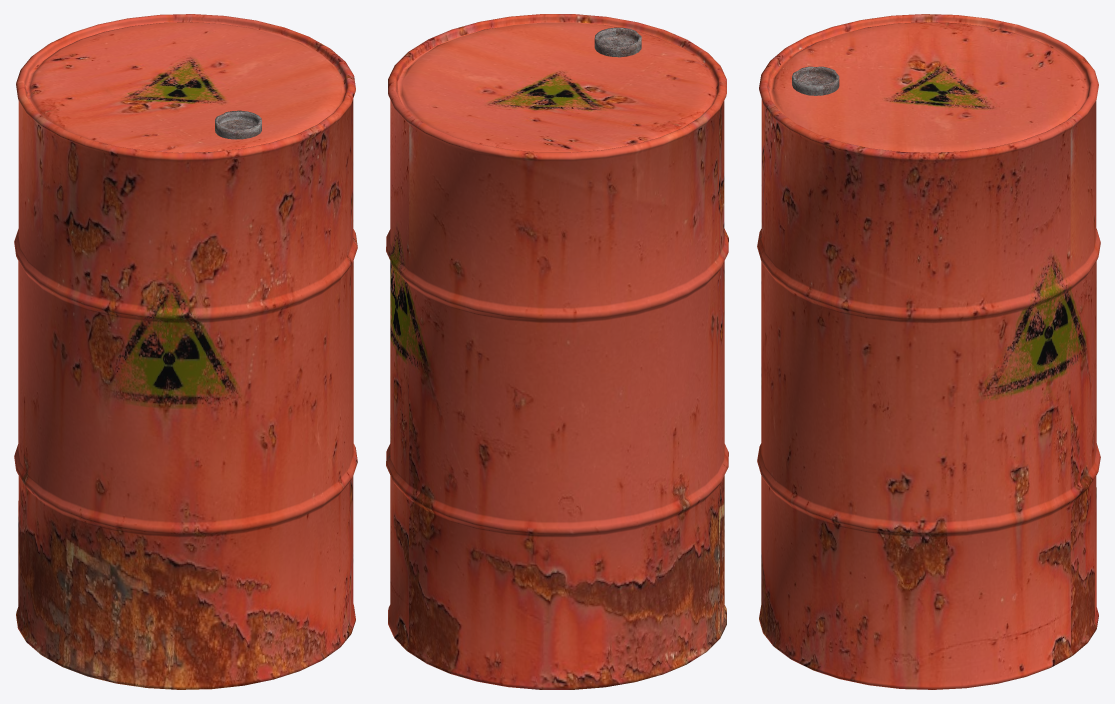
File: barrel.gltf
3 renders of one model, left to right at view 1: azimuth 30°, elevation 25°; view 2: azimuth 150°, elevation 25°; view 3: azimuth 270°, elevation 25°, orthographic.
Visible parts, largest first — view 1: Circle; view 2: Circle; view 3: Circle.
Boxes of the visible parts, box(x1,y1,x2,y2) form: Circle: box(14, 14, 357, 689); Circle: box(386, 14, 728, 689); Circle: box(757, 14, 1100, 689).
Size of the model in its own units: 2.01 by 3.5 by 2.01.
2 materials, 2 textured.
